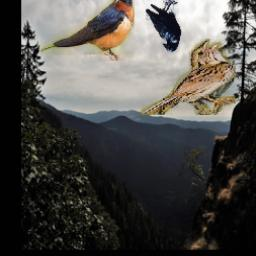Crow: (146, 0, 182, 52)
Sparrow: (141, 40, 236, 116)
Swallow: (39, 0, 134, 62)
